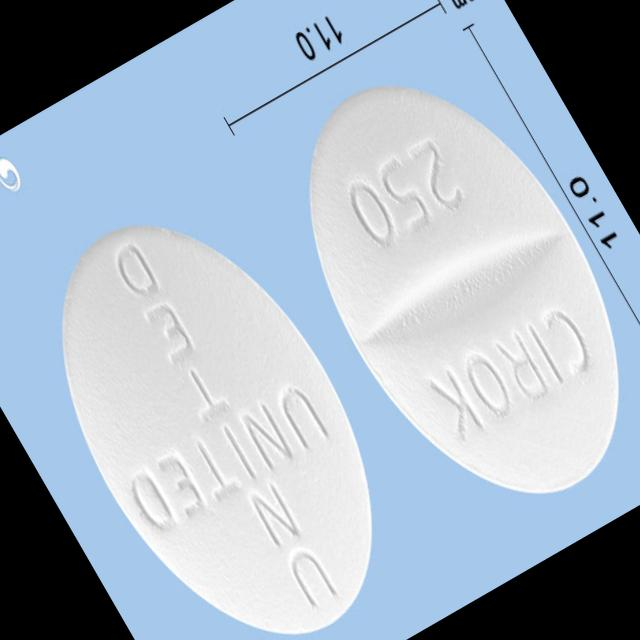Baracle -1mg: (0, 171, 437, 640), (246, 33, 640, 546)
